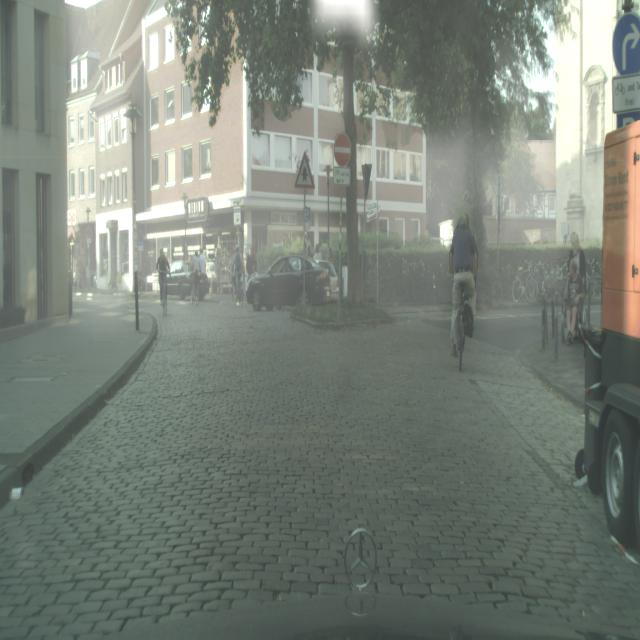car: (453, 296, 471, 372), (512, 262, 529, 302)
person: (448, 212, 478, 348), (567, 231, 587, 333), (563, 257, 583, 344), (157, 248, 170, 316), (232, 246, 245, 306), (191, 249, 201, 304), (214, 241, 222, 294), (246, 246, 256, 280)
train: (578, 119, 640, 557)
truck: (246, 254, 336, 312), (166, 260, 192, 299)
